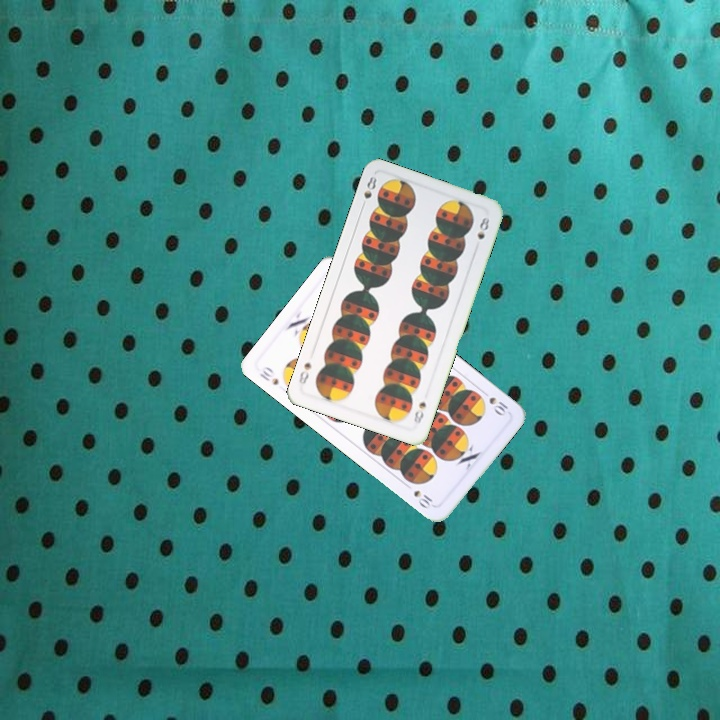S10: (475, 386, 511, 419), (255, 362, 281, 388)
S8: (357, 172, 379, 211), (409, 398, 429, 427)
